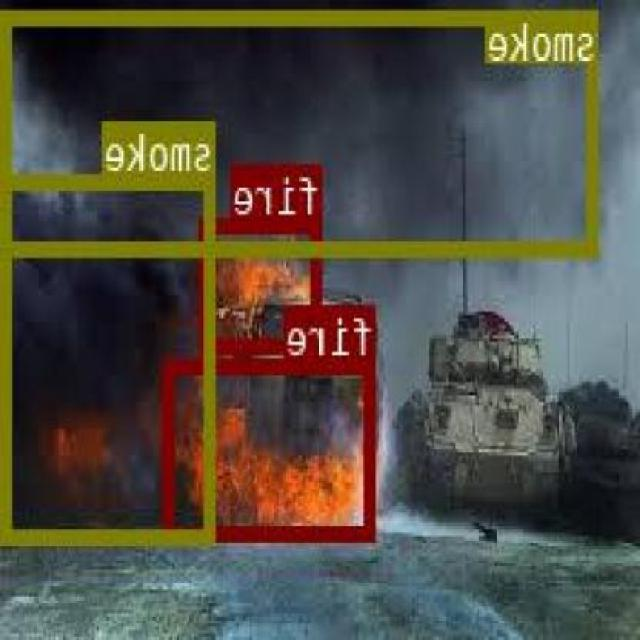Fire: (166, 358, 377, 539), (202, 215, 324, 352)
Smoke: (4, 8, 602, 250), (4, 172, 218, 540)
